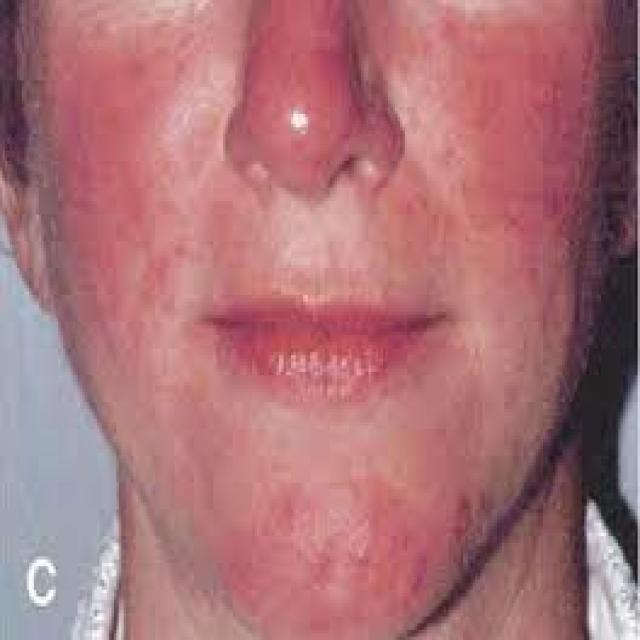Rosacea: (419, 0, 595, 318), (34, 14, 202, 343), (198, 466, 457, 630)
